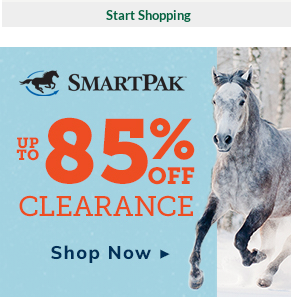fake_button: (35, 236, 179, 270)
